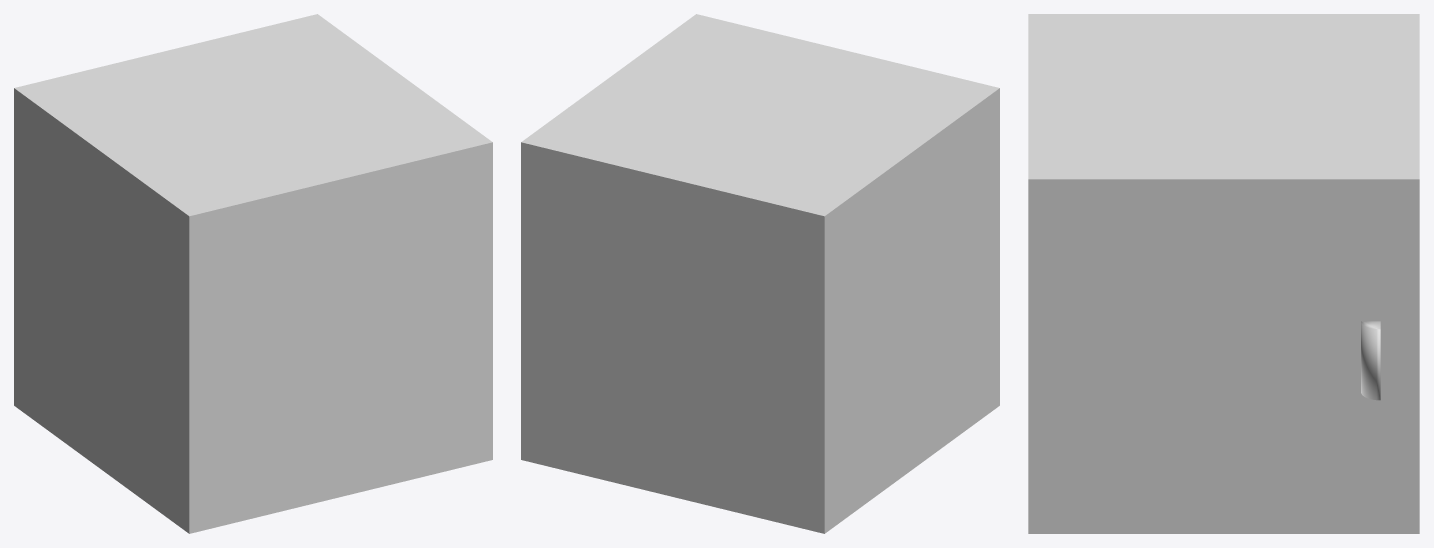
The model's file is furniture.fbx.
3 views of the same model, side by side, from view 1: azimuth 30°, elevation 25°; view 2: azimuth 150°, elevation 25°; view 3: azimuth 270°, elevation 25° (orthographic). The views are drawn at different scales.
Parts seen in each view (by area): view 1: cabinet; view 2: cabinet; view 3: cabinet.door, cabinet, cabinet.door.handler.
Part boxes in pixels (<box>): cabinet: <box>14,14,492,533</box>; cabinet: <box>521,14,999,533</box>; cabinet.door: <box>1038,188,1409,524</box>; cabinet: <box>1028,14,1419,533</box>; cabinet.door.handler: <box>1361,321,1380,400</box>.
Size of the model in its own units: 200 by 200 by 210.
Materials: 2 (1 with a texture image).
